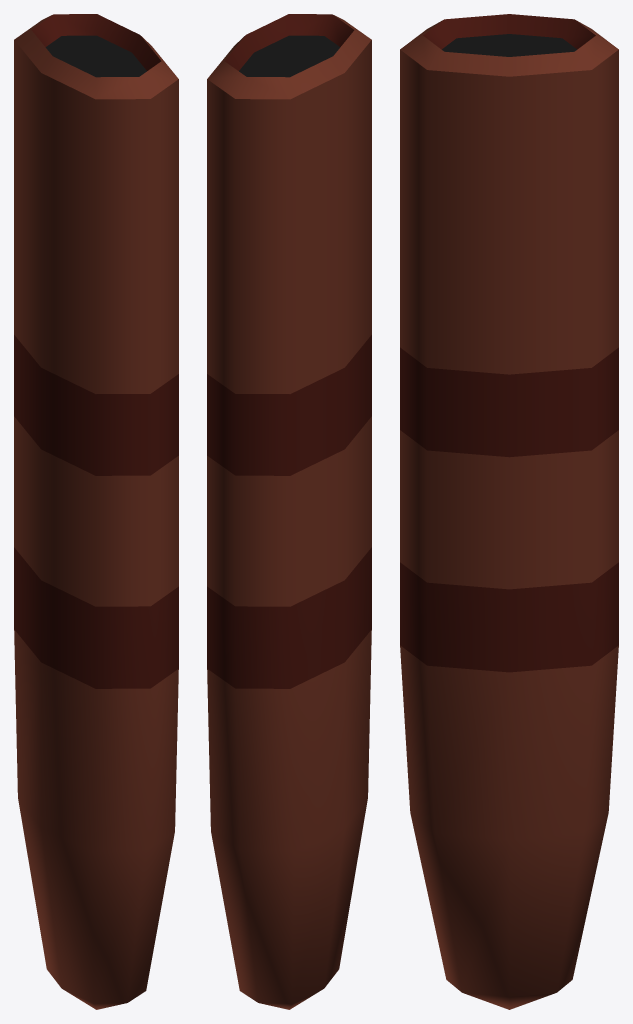
Rendered from fantasyHolster.gltf.
3 renders of one model, left to right at view 1: azimuth 30°, elevation 25°; view 2: azimuth 150°, elevation 25°; view 3: azimuth 270°, elevation 25°, orthographic.
Visible parts, largest first — view 1: fantasyHolster; view 2: fantasyHolster; view 3: fantasyHolster.
Boxes of the visible parts, x1,y1,x2,y2 form: fantasyHolster: [14, 14, 178, 1009]; fantasyHolster: [207, 14, 371, 1009]; fantasyHolster: [400, 14, 618, 1009].
Bounding box in the file's own units: 0.1287 × 1.07 × 0.2184.
